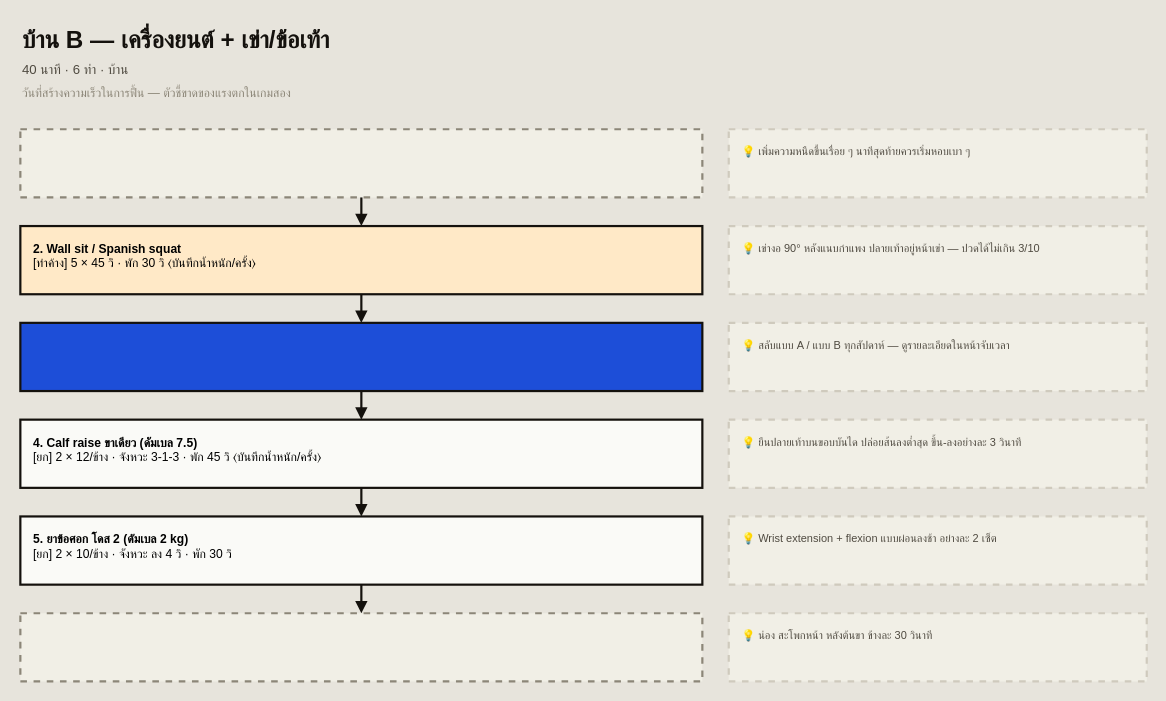
Image size: 1166x701. Some labels were removed from this diagram. Here are the shapes that lost their labels. From the top down, the centre of each, then its label:
At [361,163]: "1. วอร์ม — ปั่นเบา [จับเวลา] 4 นาที".
At [361,356]: "3. Interval บนจักรยาน [อินเทอร์วัล] สลับ A/B ให้เอง ⟨บันทึกน้ำหนัก/ครั้ง⟩".
At [361,647]: "6. ยืดคลาย [จับเวลา] 2 นาที".
